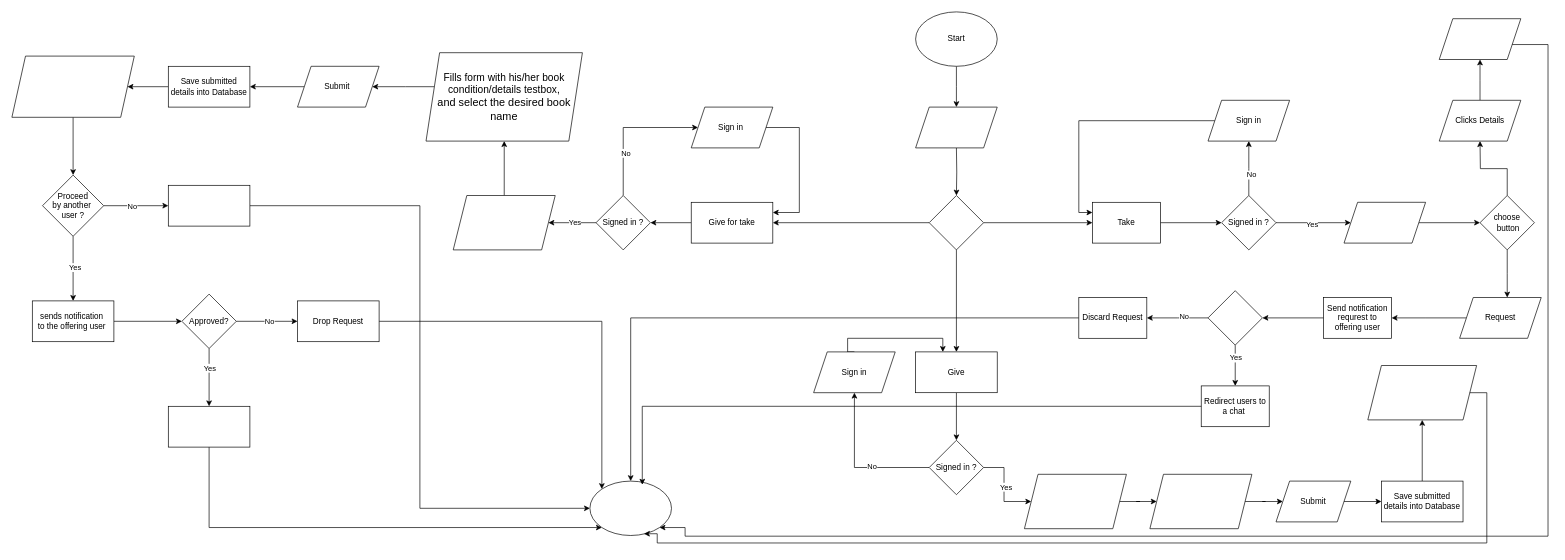
This 1565x560 diagram has some shape labels left out. Here are the shapes that lost their labels. From the top down, the box of each, then its label:
(1439, 18, 1521, 60): Display provided Details about the book
(11, 55, 134, 117): Display submitted details publicly in another Offer List
(915, 106, 997, 148): Select Book
(168, 185, 250, 226): Delete process after 15 days
(453, 195, 555, 250): Display a form
(929, 195, 984, 250): Select a Button
(1343, 202, 1426, 243): Display Offer List
(1207, 290, 1262, 345): Approved ?
(1367, 365, 1477, 420): Display submitted details publicly in Offer List
(168, 406, 250, 447): Directs users to a chat
(589, 480, 672, 536): End
(1024, 474, 1126, 529): Outputs empty text box for book detail
(1149, 474, 1252, 529): Type book conditins/details in a text box
